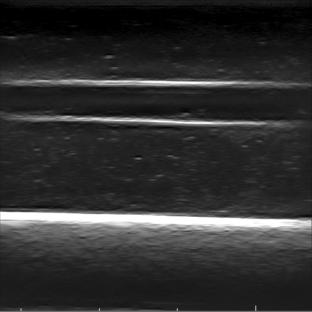vessel: (0, 76, 312, 129)
